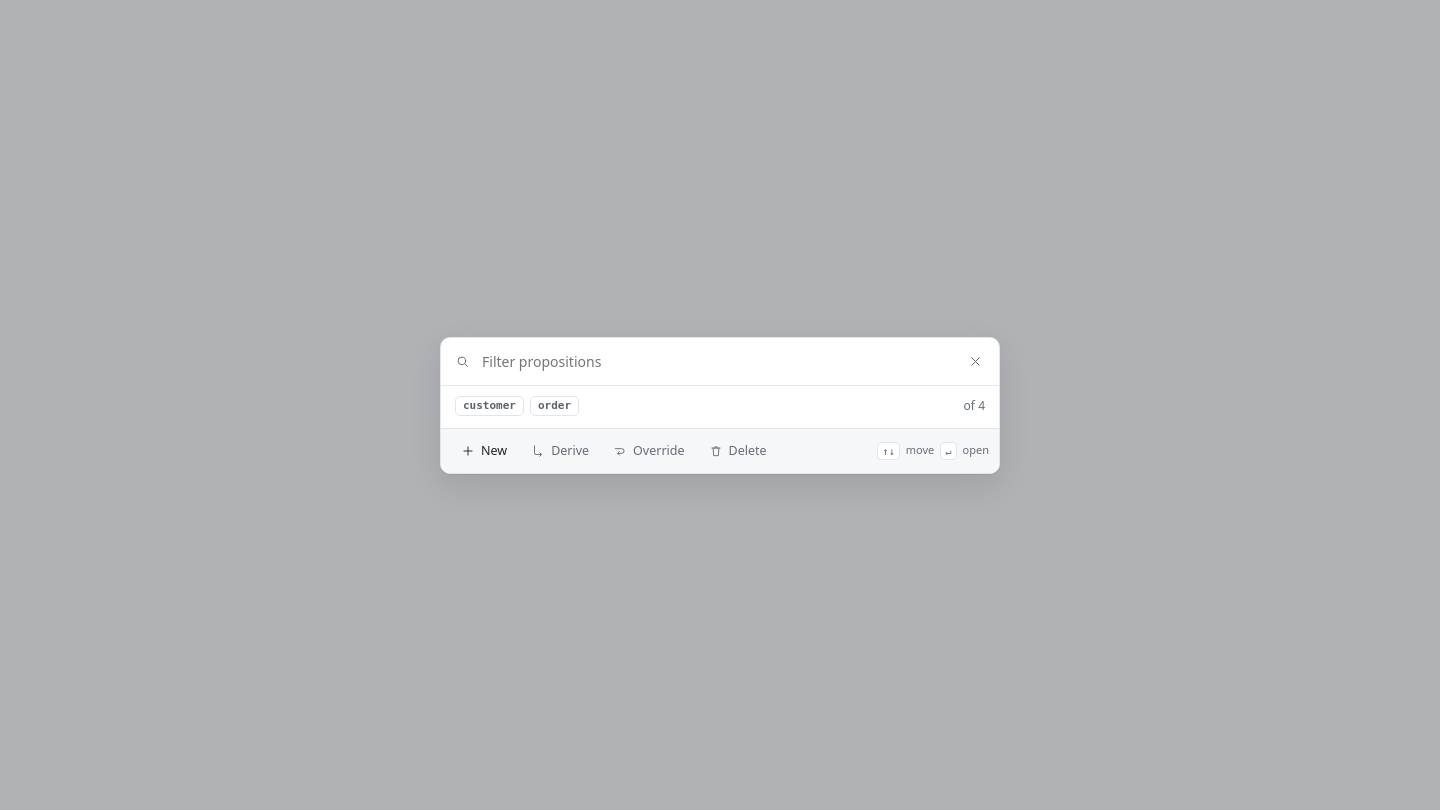
Scenario: PropositionExplorer › reports how many propositions match
Type "eligibility" into the dropdown at (732, 361), box [480,350,985,372]
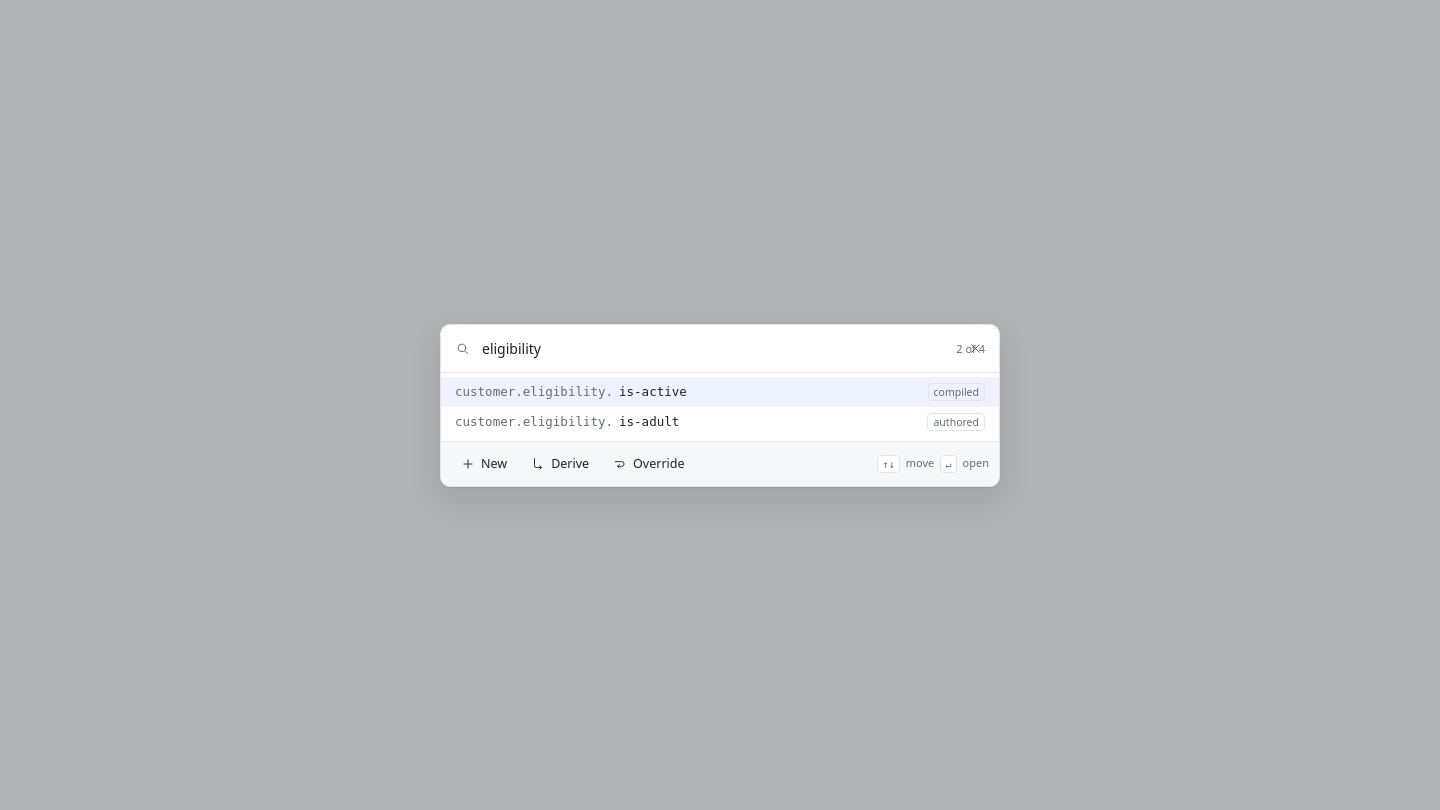
Check: the text "2 of 4" is shown, box [956,340,985,356]
